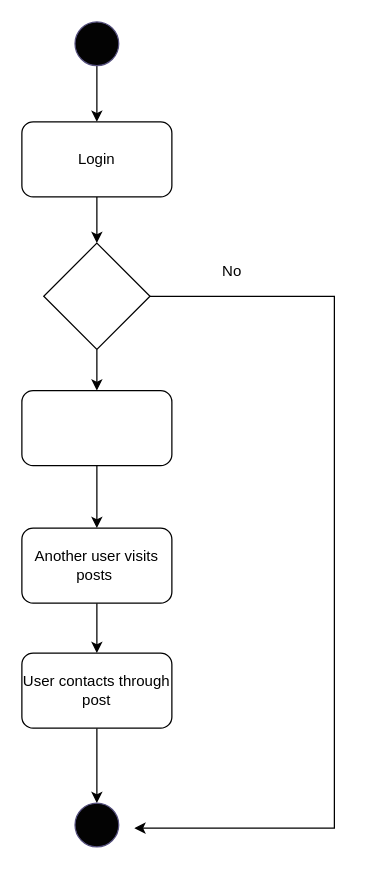
This 366x869 diagram has some shape labels left out. The centre of each missing label's shape, as x and y in pixels:
Login Successful: the point at 96,295
Upload Details and Documents: the point at 96,427
